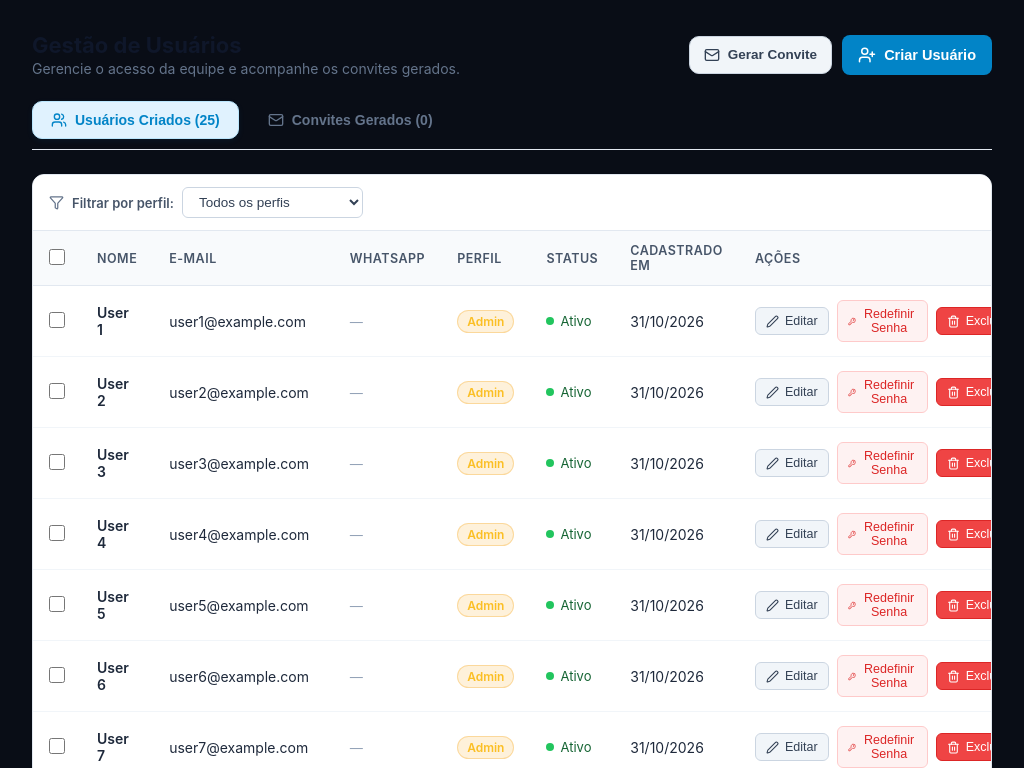
Test: UserManagement Component Tabs › filters users by role and supports pagination with 20 items per page
Filtra apenas por 'aluno'
Select "Aluno" in the dropdown with test id "filter-user-role-select" at (272, 202), box [182, 187, 363, 218]
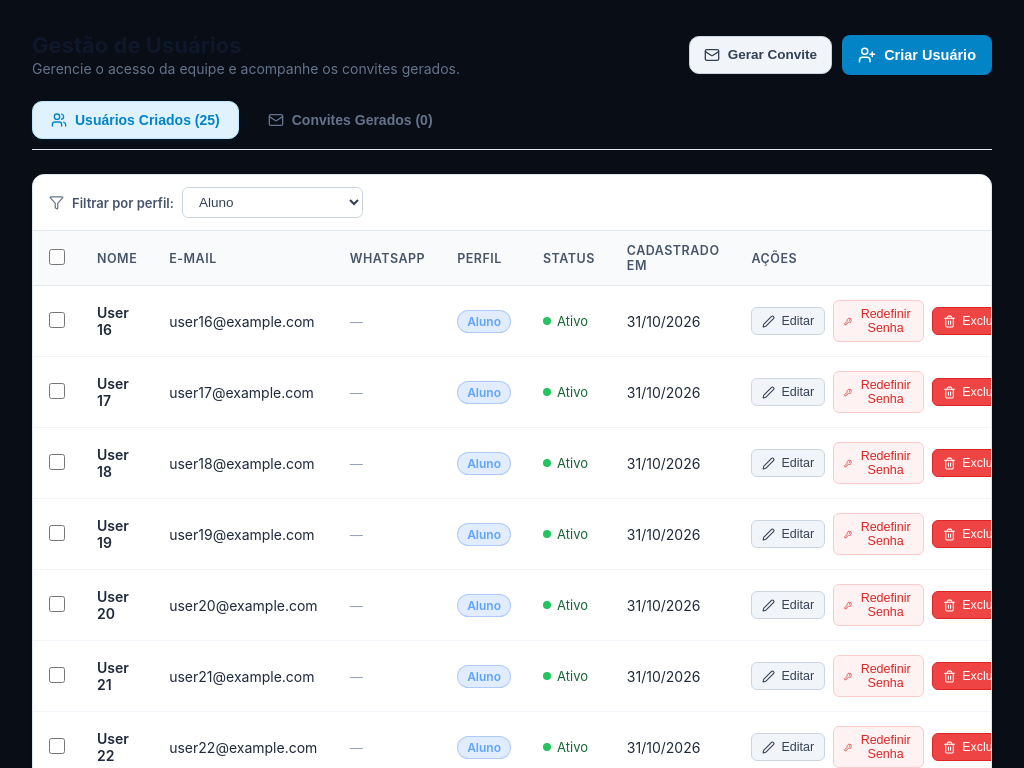
Click the checkbox with test id "select-all-users-checkbox" at (57, 256), box [49, 248, 65, 264]
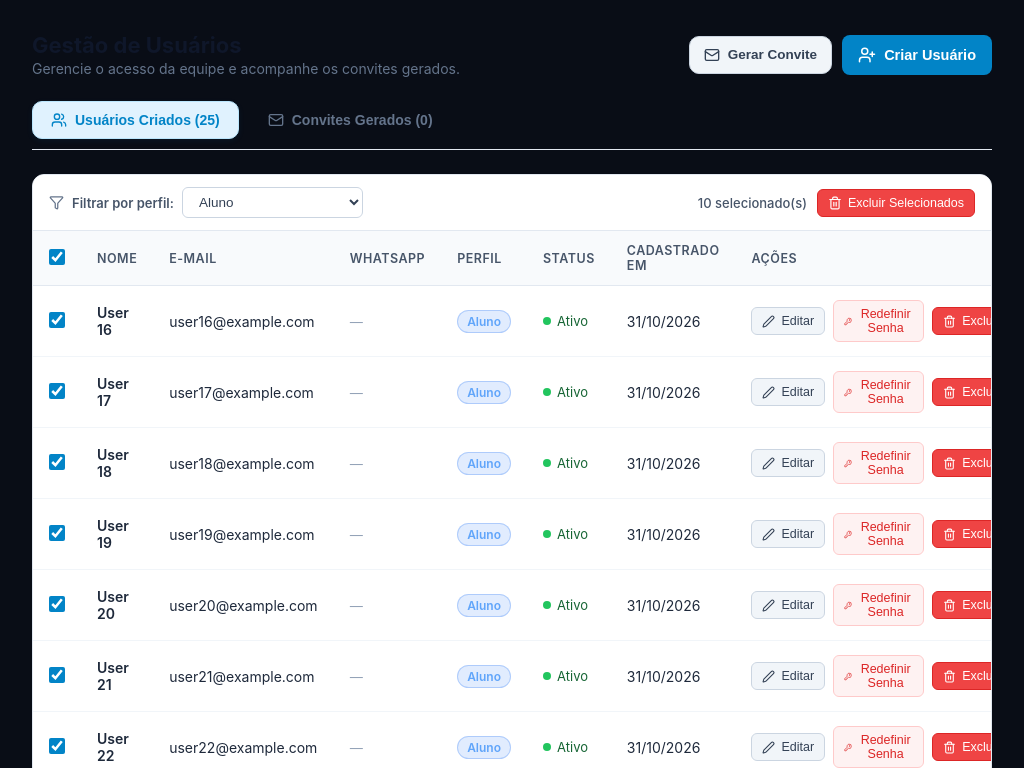
Expected: the text with test id "selected-users-count" reads "10 selecionado(s)", [698, 194, 807, 210]
Expected: the button with test id "bulk-delete-users-btn" is shown, [817, 188, 975, 216]
